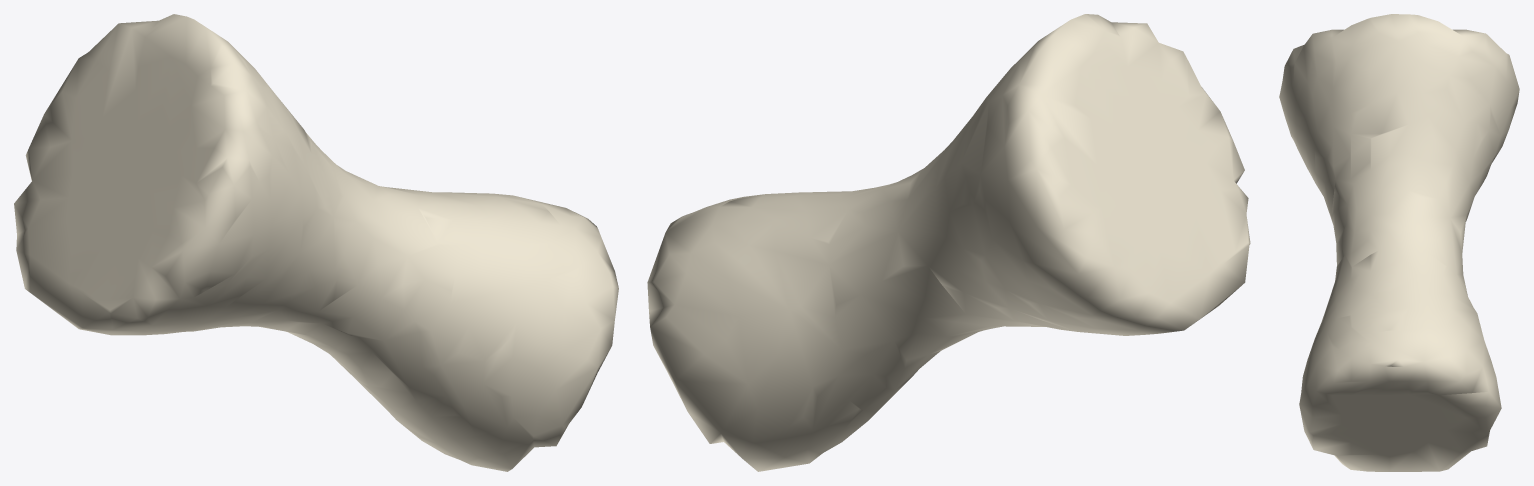
Rendered from caudal_8.glb.
3 views of the same model, side by side, from view 1: azimuth 30°, elevation 25°; view 2: azimuth 150°, elevation 25°; view 3: azimuth 270°, elevation 25° (orthographic). The views are drawn at different scales.
Visible parts, largest first — view 1: geometry_0; view 2: geometry_0; view 3: geometry_0.
Part boxes in pixels (box(x1,y1,x2,y2)): geometry_0: box(14, 14, 618, 471); geometry_0: box(647, 14, 1250, 471); geometry_0: box(1279, 14, 1519, 471).
Size of the model in its own units: 0.0596 by 0.0517 by 0.0313.
